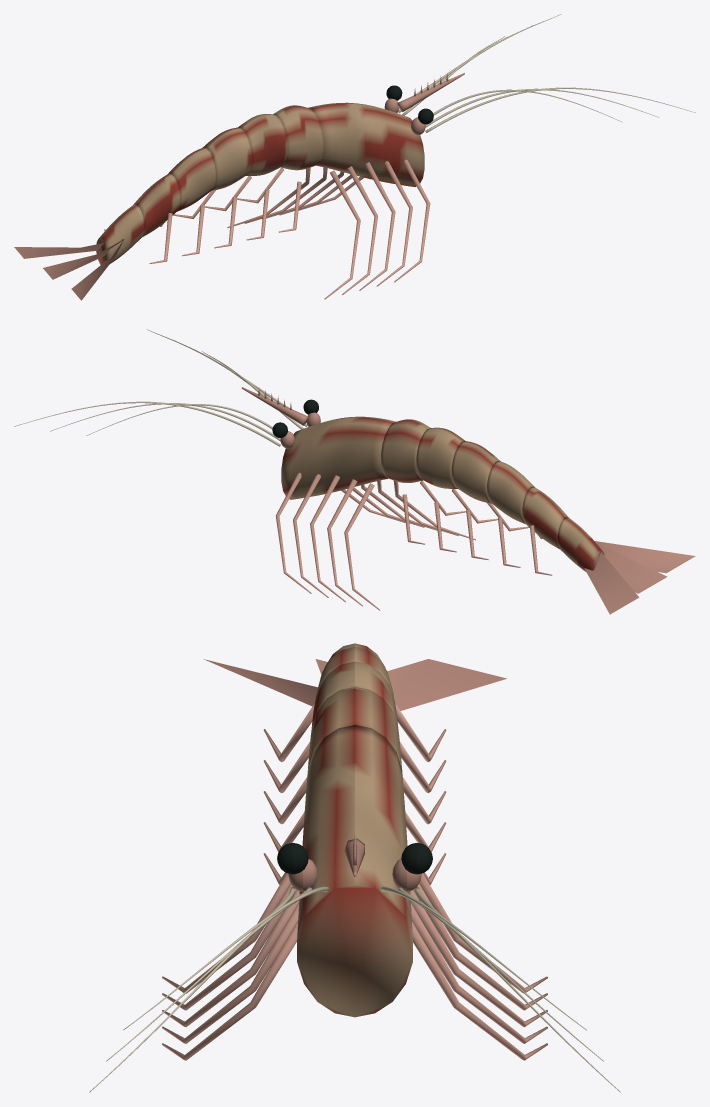
File: peppermint-desktop.glb
The picture shows the model from 3 angles, top to bottom: view 1: azimuth 30°, elevation 25°; view 2: azimuth 150°, elevation 25°; view 3: azimuth 270°, elevation 25°; orthographic projection. The views are drawn at different scales.
Visible parts, largest first — view 1: carapace, pereiopod, antenna, pleopod, serrated-rostrum; view 2: carapace, pereiopod, antenna, pleopod, serrated-rostrum; view 3: carapace, pereiopod, pleopod, antenna, eye, eye-stalk.
Boxes of the visible parts, x1,y1,x2,y2 form: carapace: (14, 102, 424, 300); pereiopod: (227, 159, 430, 299); antenna: (398, 14, 695, 132); pleopod: (104, 167, 301, 263); serrated-rostrum: (397, 73, 464, 111); carapace: (281, 416, 695, 614); pereiopod: (276, 472, 475, 610); antenna: (14, 329, 307, 446); pleopod: (402, 480, 552, 575); serrated-rostrum: (241, 387, 308, 425); carapace: (204, 643, 506, 1017); pereiopod: (162, 873, 547, 1060); pleopod: (263, 703, 446, 884); antenna: (89, 886, 620, 1092); eye: (277, 843, 432, 874); eye-stalk: (288, 859, 421, 891).
Bounding box in the file's own units: 1.18 × 0.2938 × 0.4706.
